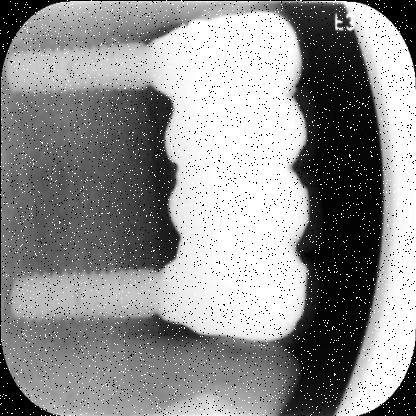ITI: (3, 252, 160, 332), (7, 32, 154, 100)
